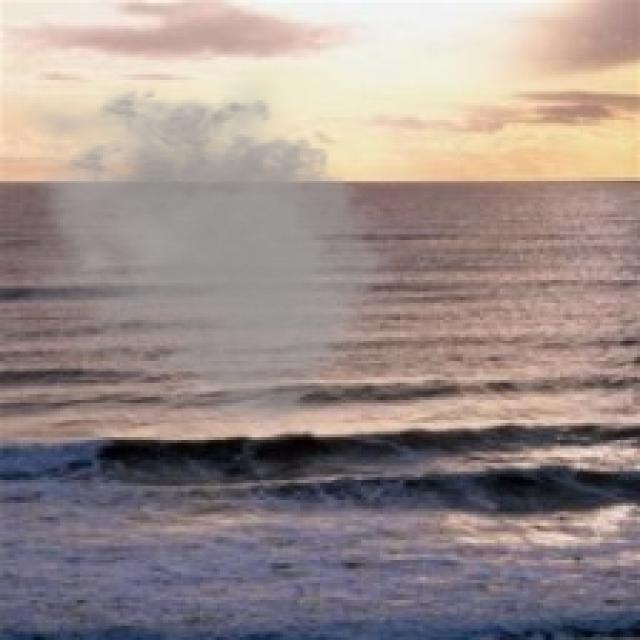Smoke: (6, 72, 406, 434)
